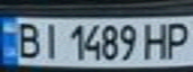1: (63, 21, 84, 61)
4: (81, 21, 103, 61)
8: (100, 21, 121, 61)
9: (118, 20, 142, 61)
B: (9, 19, 45, 60)
H: (139, 19, 175, 61)
I: (36, 20, 63, 60)
P: (160, 19, 193, 60)
